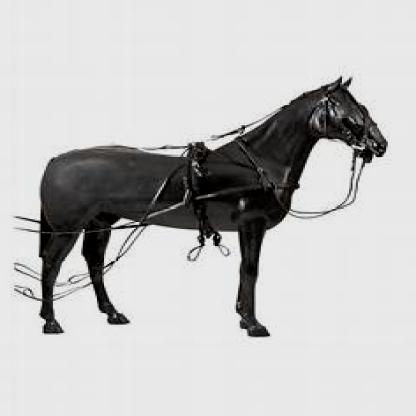horse: (39, 76, 388, 337)
